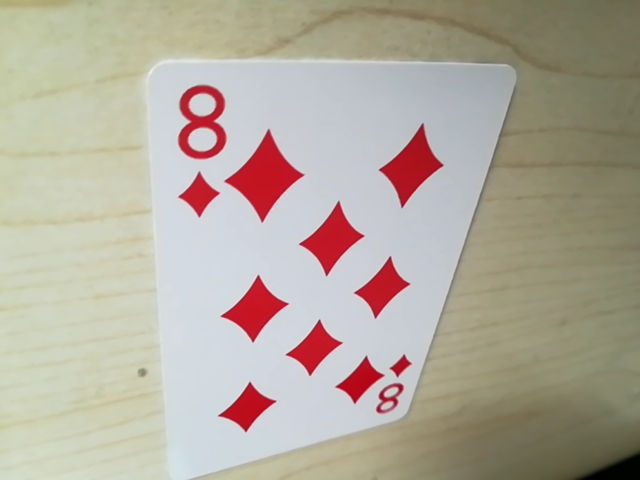fk 8: (165, 77, 236, 211), (364, 362, 415, 420)
